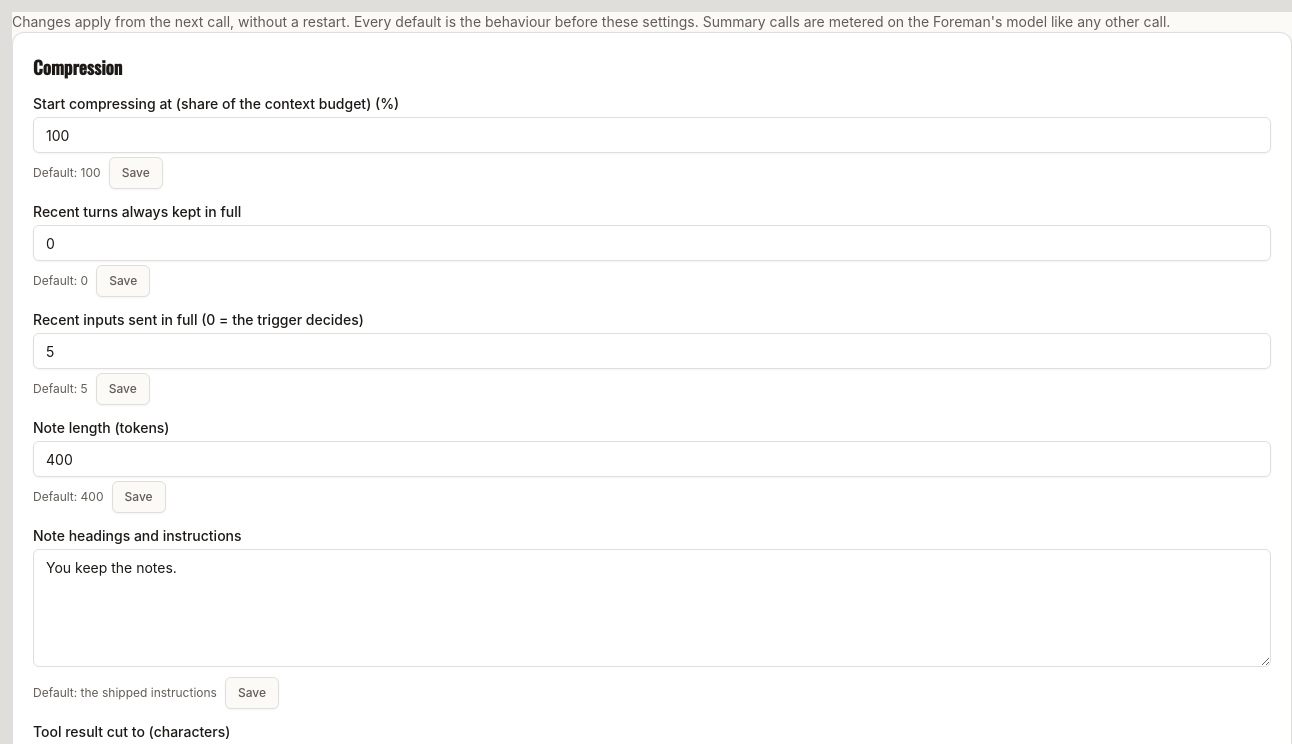
recent inputs show the default of 5, save, reset and show a refusal
Replace the text in the number field labelled "Recent inputs sent in full (0 = the trigger decides)" with "8" at x=652, y=351, box [33,333,1271,369]
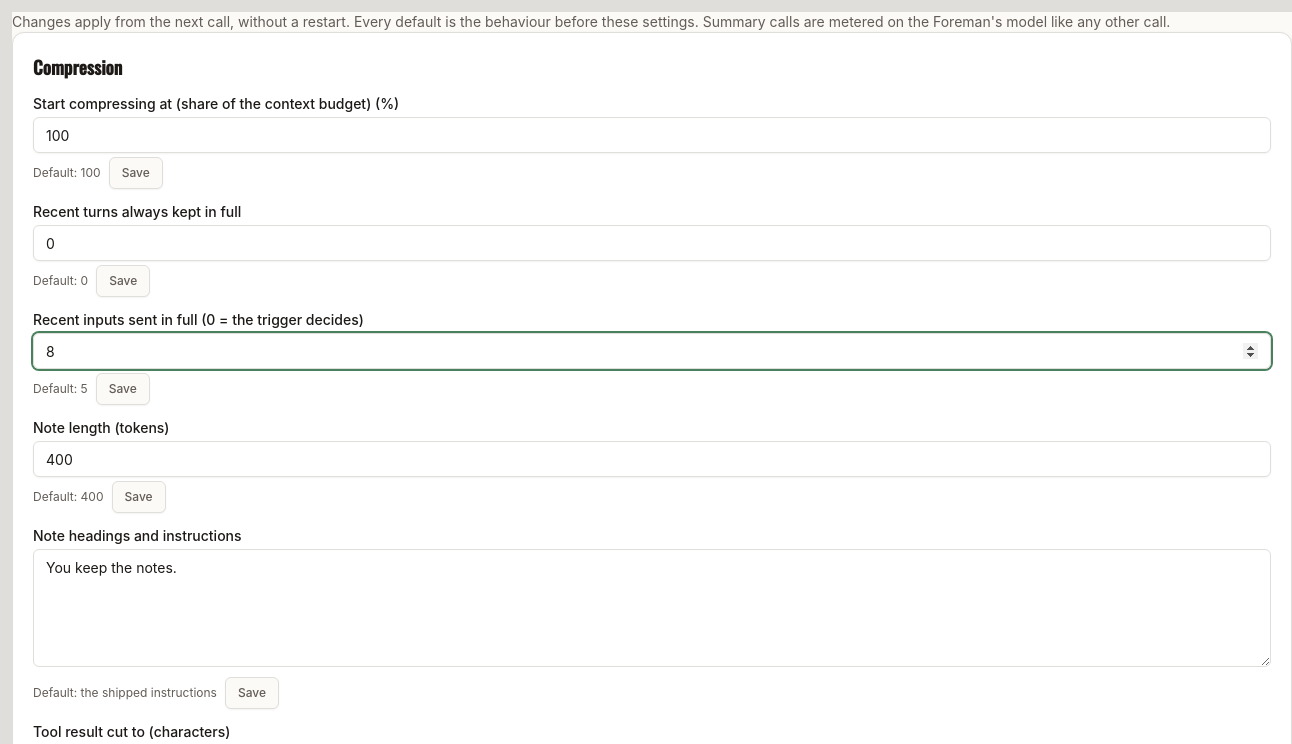
Click the 3rd button "Save".
click(123, 389)  # box [96,373,150,405]
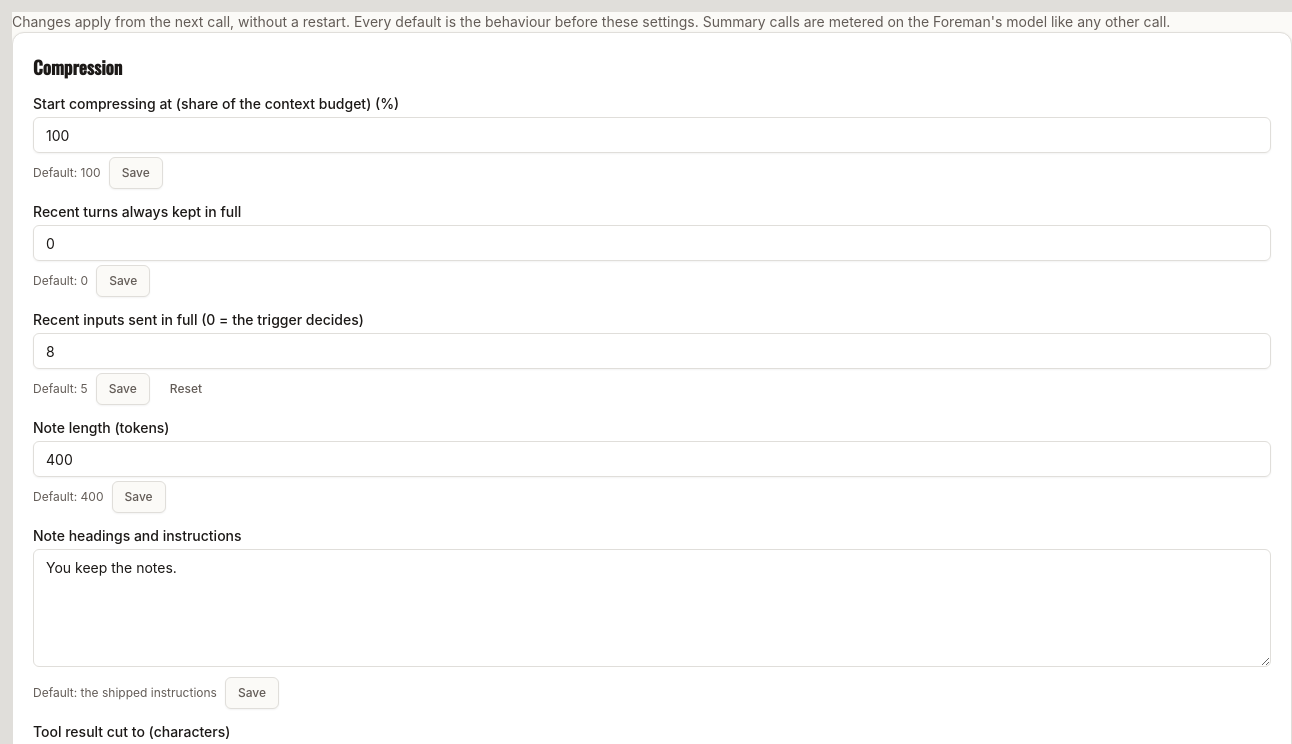
Click the button with aria-label "Reset Recent inputs sent in full (0 = the trigger decides)".
click(186, 389)  # box [158,373,214,405]
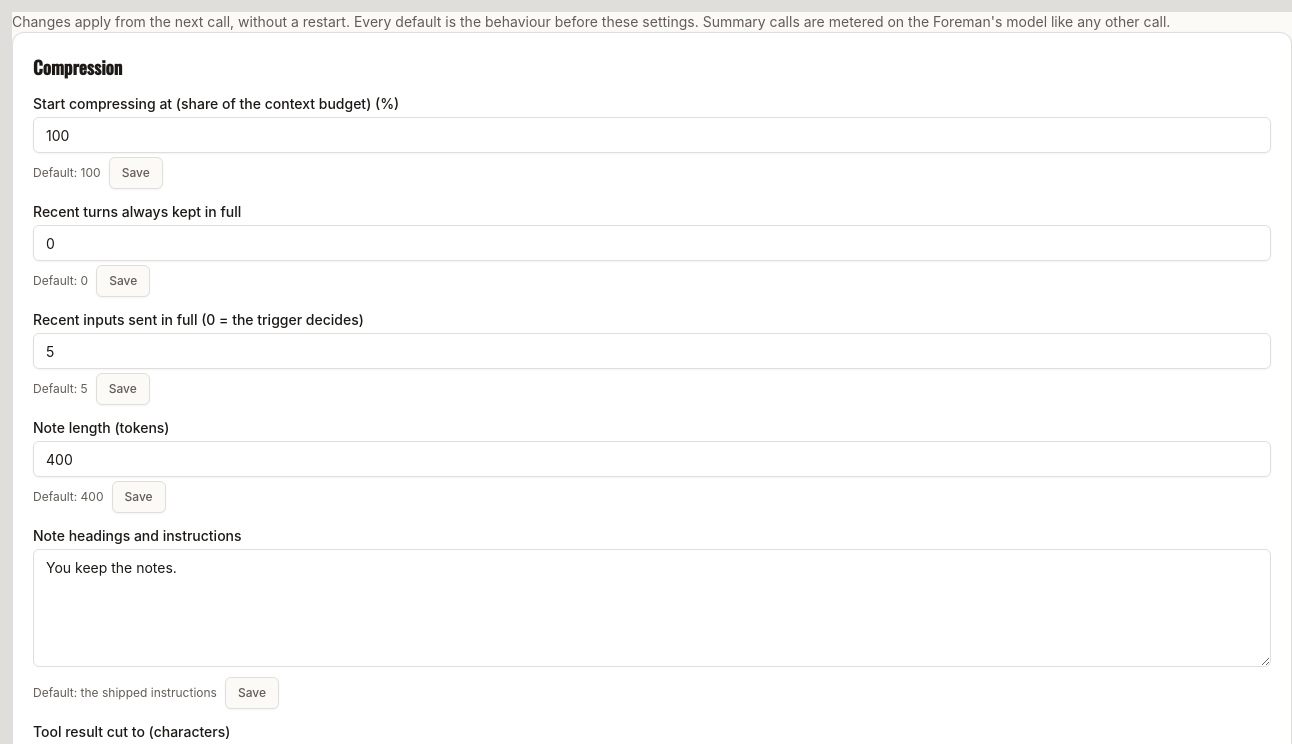
Replace the text in the number field labelled "Recent inputs sent in full (0 = the trigger decides)" with "21" at x=652, y=351, box [33,333,1271,369]
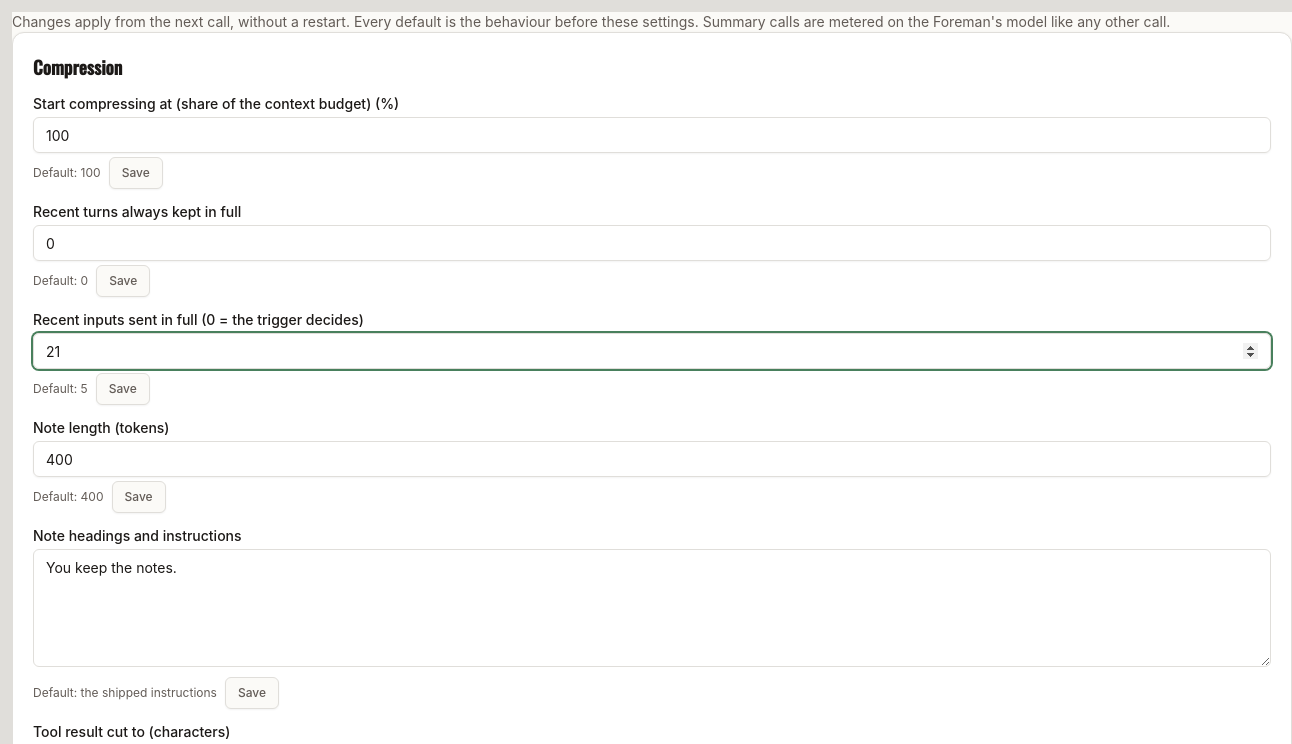
Click the 3rd button "Save".
click(123, 389)  # box [96,373,150,405]
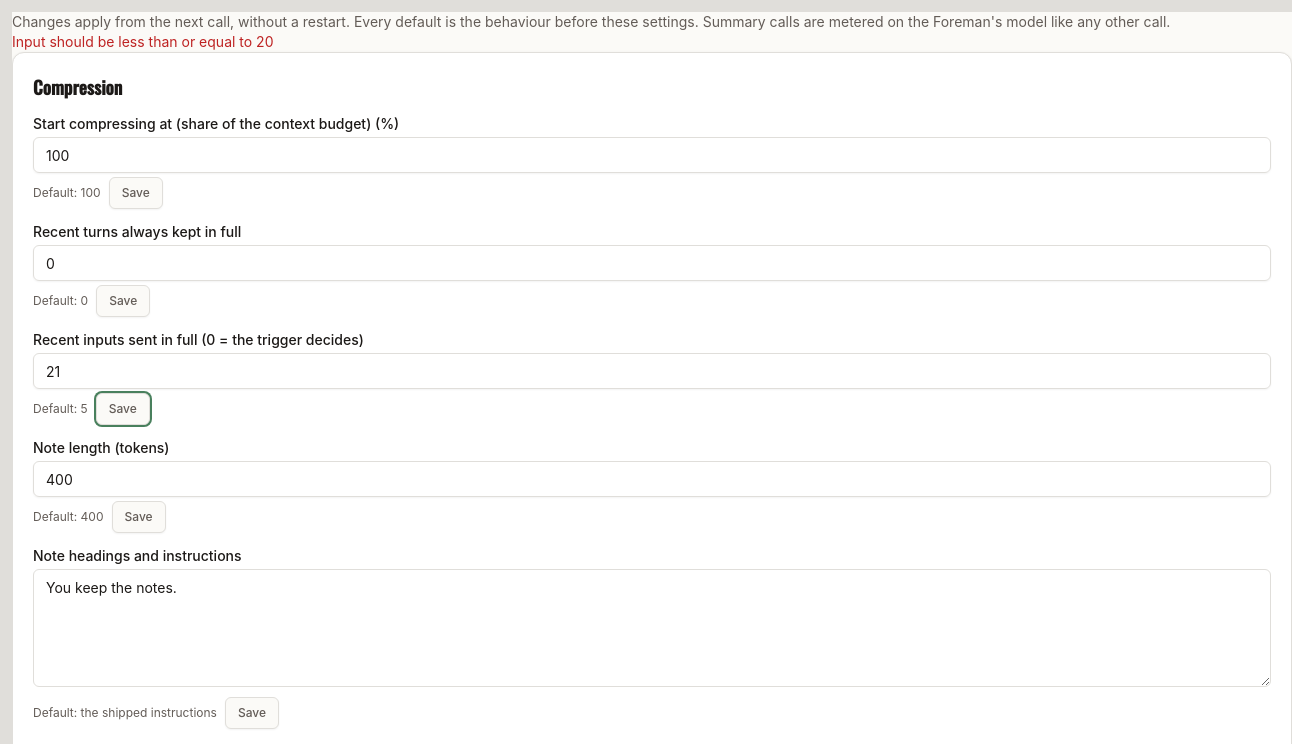
Result: the text "Input should be less than or equal to 20" is shown at [12,33,274,50]
